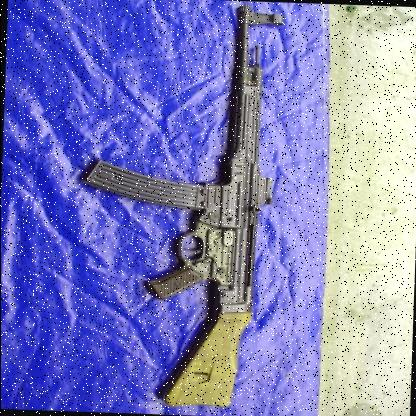rifle: (71, 2, 301, 407)
